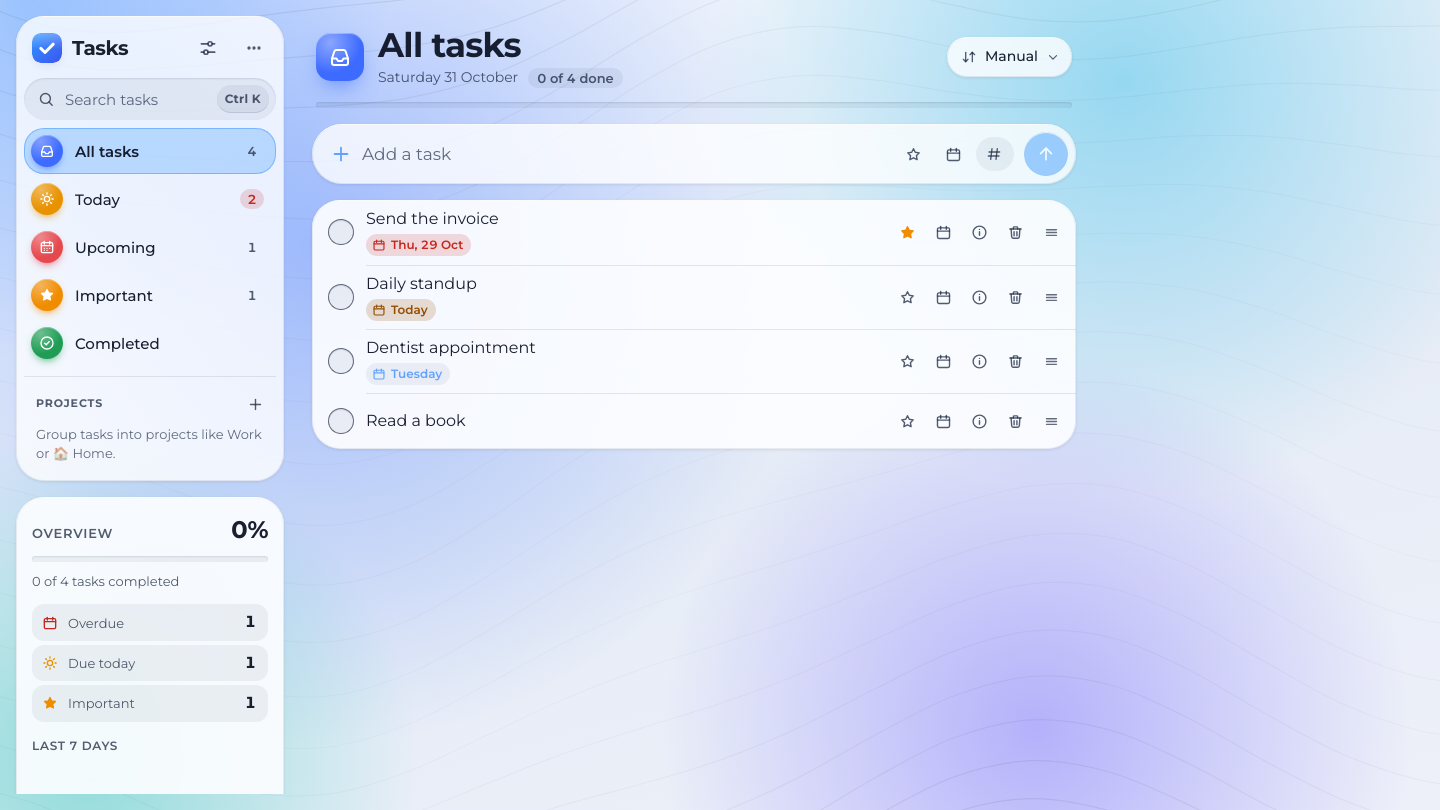
Test case: Sorting and search › sorts tasks and disables manual reordering
The width and height of the screenshot is (1440, 810).
Check: the number of buttons named "Reorder" is 4, box x1=1034 y1=216 x2=1068 y2=250; x1=1034 y1=280 x2=1068 y2=314; x1=1034 y1=344 x2=1068 y2=378; x1=1034 y1=404 x2=1068 y2=438
Click the button with aria-label "Sort tasks: Manual": [1010, 57] box x1=947 y1=37 x2=1072 y2=77
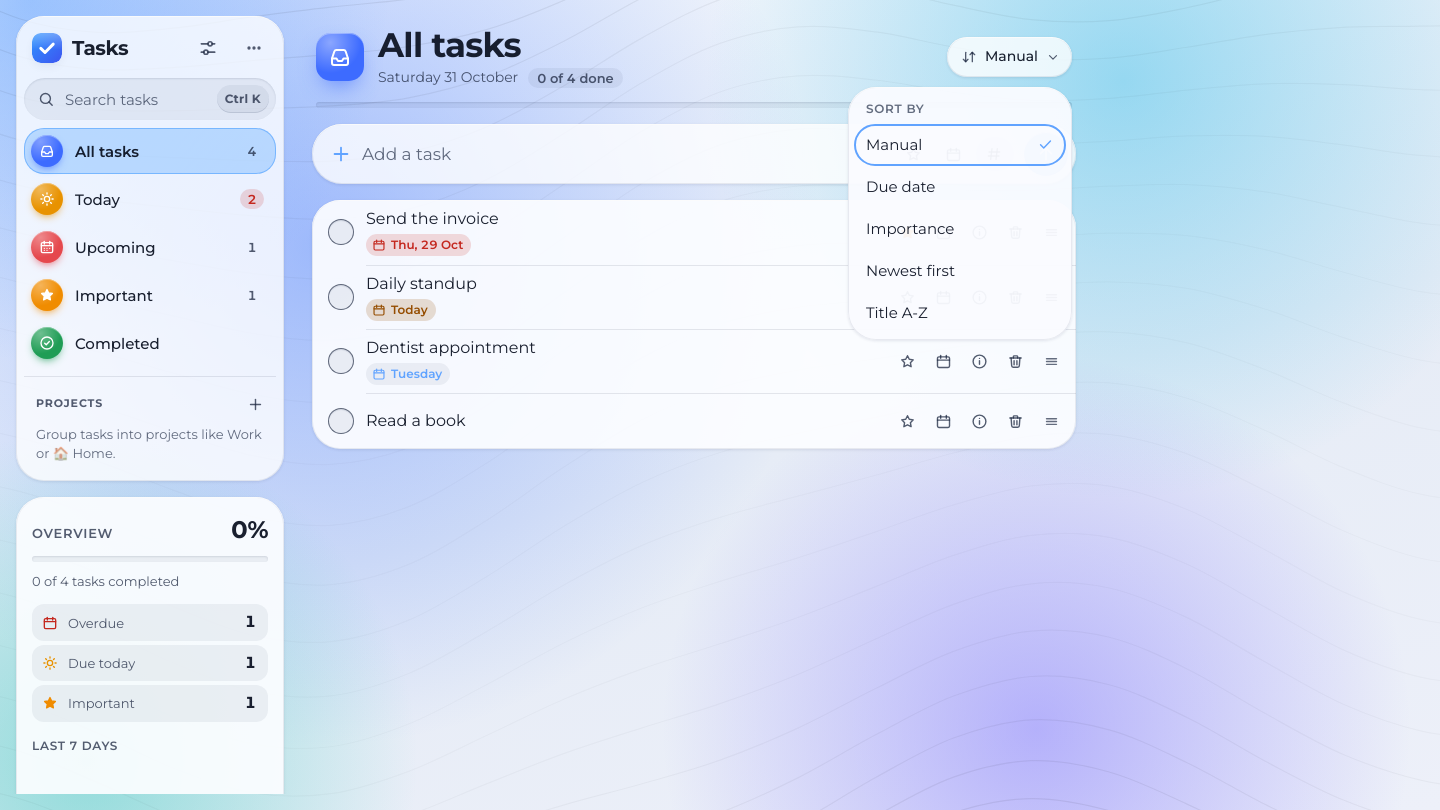
Click the button "Title A-Z": [960, 313] box x1=854 y1=292 x2=1066 y2=334
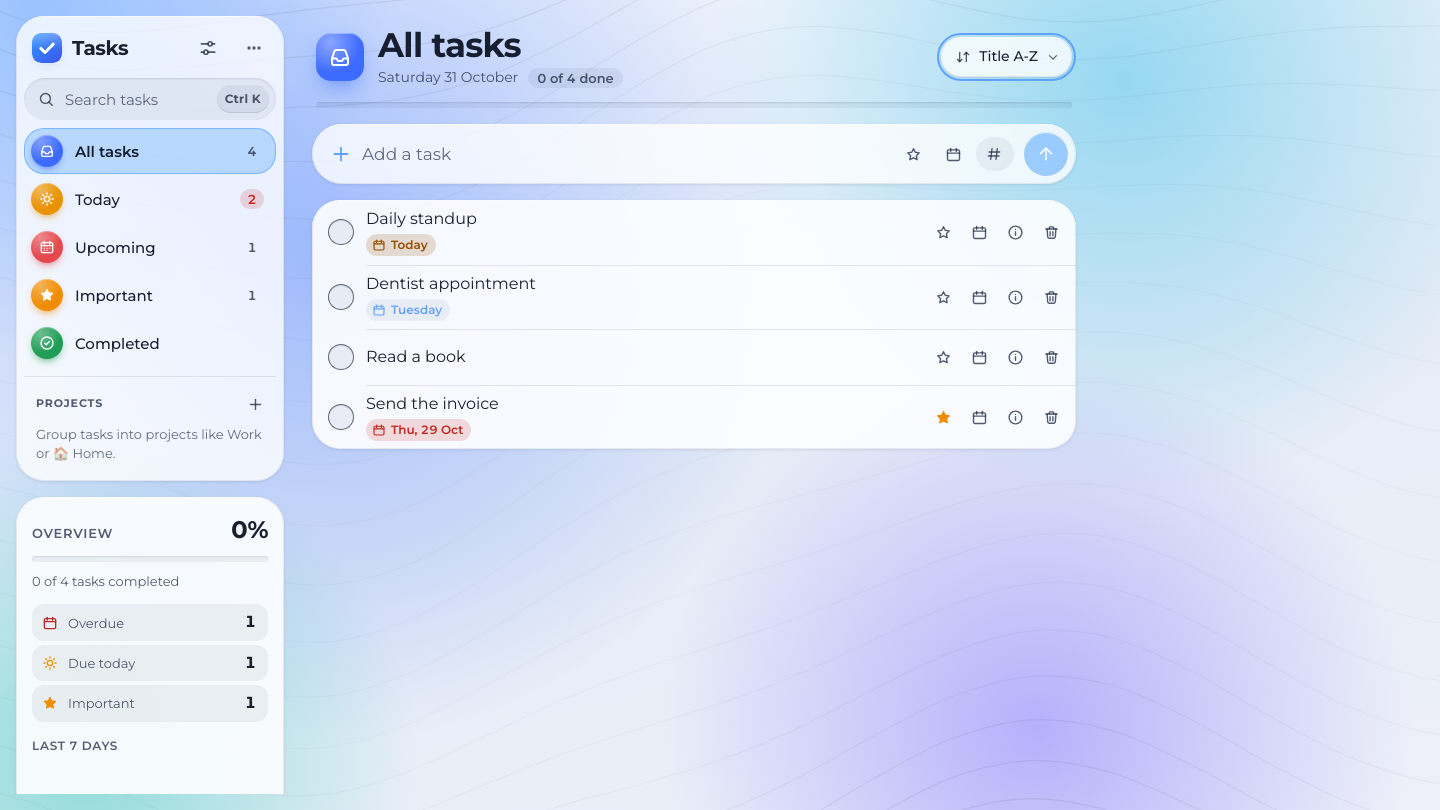
Check: the button with aria-label "Sort tasks: Title A-Z" is shown, box x1=941 y1=37 x2=1072 y2=77
